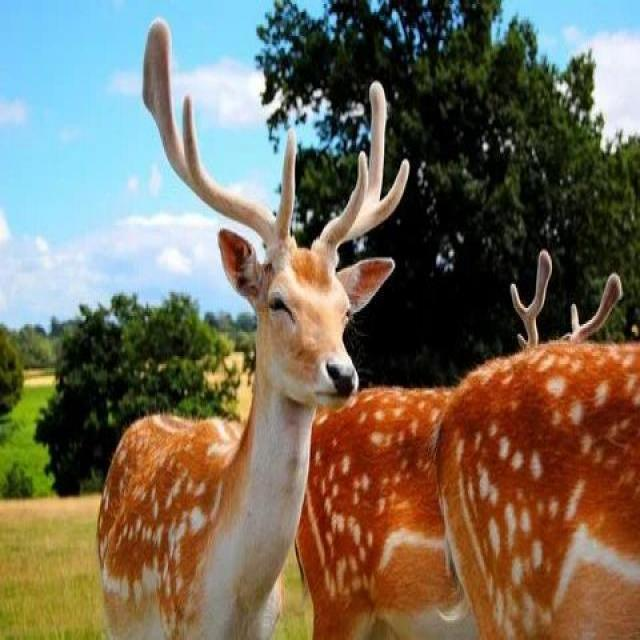deer: (62, 2, 385, 637)
